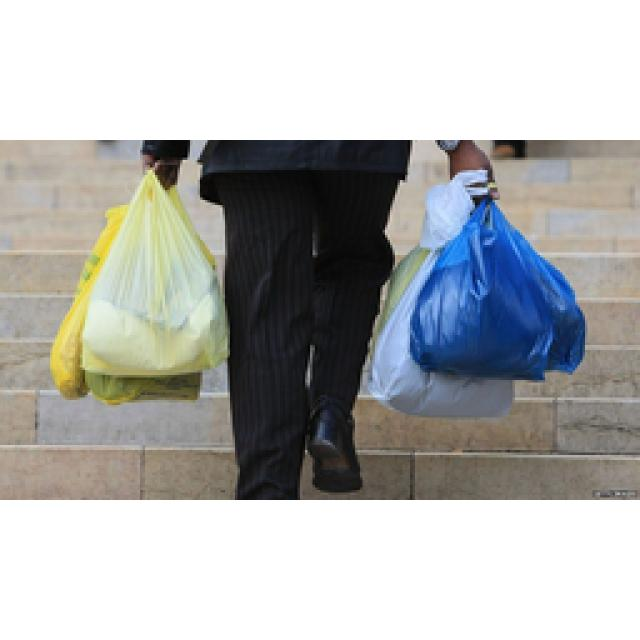plastic: (368, 170, 582, 415), (50, 170, 228, 398)
